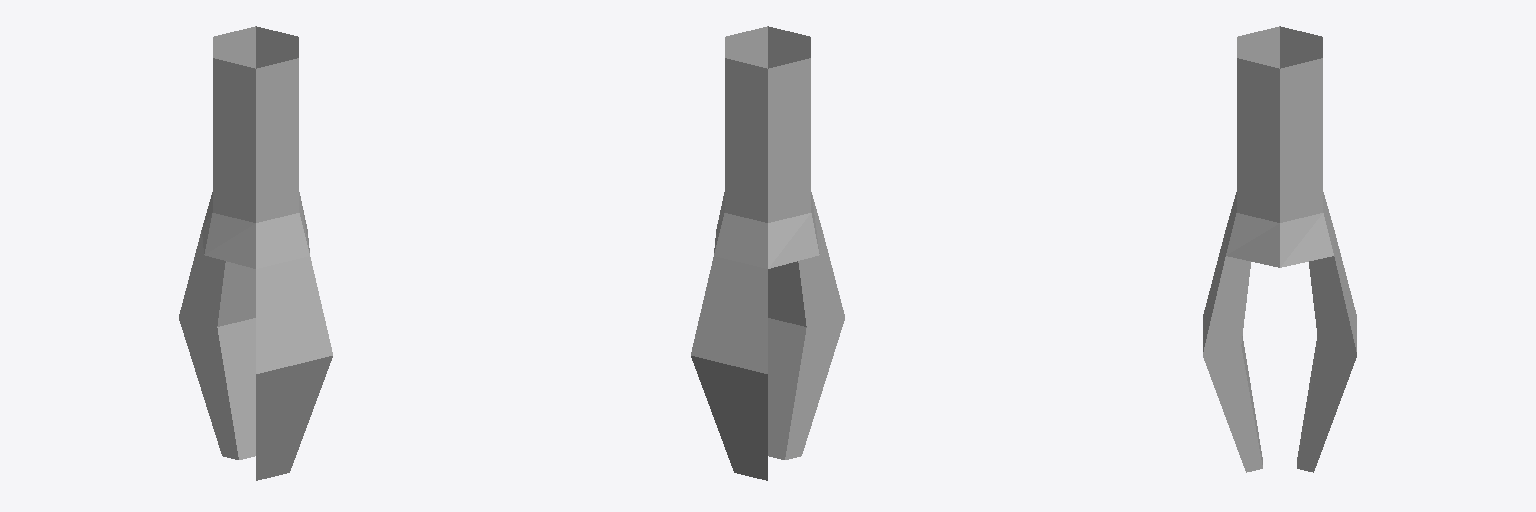
File: weapon.obj
3 renders of one model, left to right at view 1: azimuth 30°, elevation 25°; view 2: azimuth 150°, elevation 25°; view 3: azimuth 270°, elevation 25°, orthographic.
Parts seen in each view (by area): view 1: weapon_Sphere.014; view 2: weapon_Sphere.014; view 3: weapon_Sphere.014.
Part boxes in pixels (bbox=[...]): weapon_Sphere.014: bbox=[179, 26, 332, 480]; weapon_Sphere.014: bbox=[691, 26, 844, 480]; weapon_Sphere.014: bbox=[1203, 26, 1356, 472].
Size of the model in its own units: 0.649 by 2.5 by 0.8405.